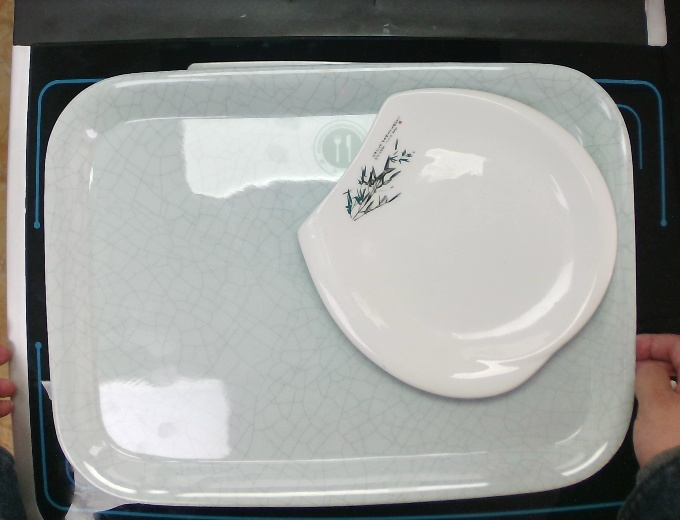JYsf-Mian_Pan: (294, 81, 623, 416)
